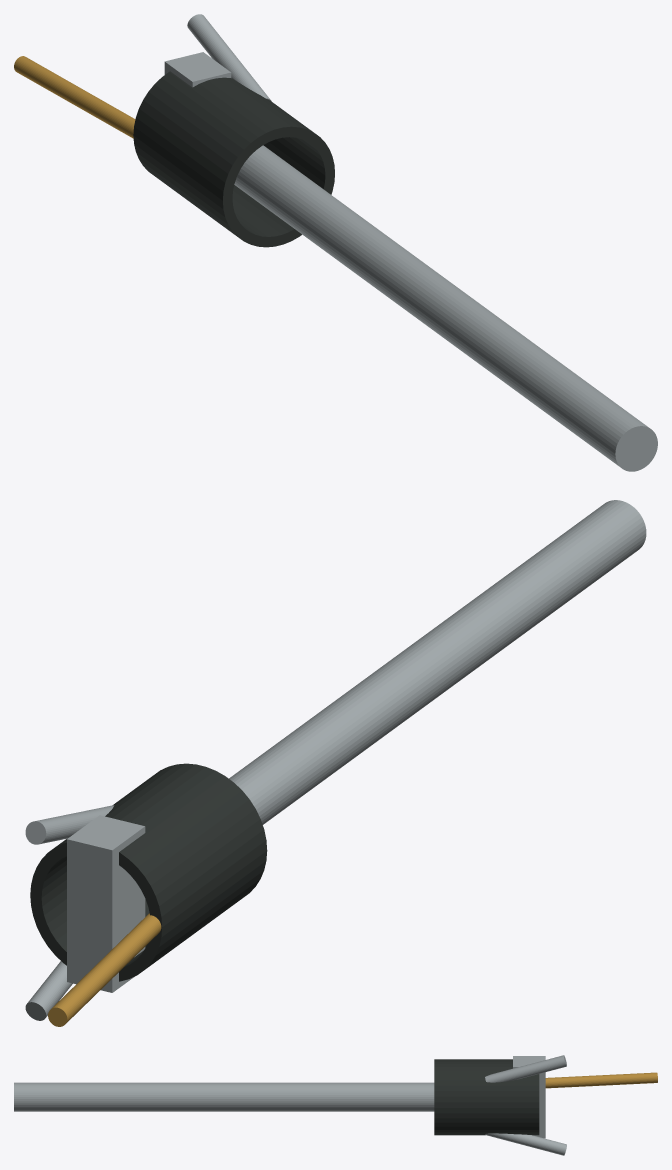
File: duckbill_feed_link.obj
3 renders of one model, top to bottom at view 1: azimuth 30°, elevation 25°; view 2: azimuth 150°, elevation 25°; view 3: azimuth 270°, elevation 25°, orthographic. The views are drawn at different scales.
Visible parts, largest first — view 1: feed_rod_4, housing_0, water_nozzle_3, jaw_actuators_2, hinge_brackets_1; view 2: feed_rod_4, housing_0, hinge_brackets_1, water_nozzle_3, jaw_actuators_2; view 3: feed_rod_4, housing_0, jaw_actuators_2, water_nozzle_3, hinge_brackets_1.
Boxes of the visible parts, x1,y1,x2,y2 form: feed_rod_4: (234,145,657,471); housing_0: (133,71,334,247); water_nozzle_3: (14,56,135,138); jaw_actuators_2: (187,14,271,101); hinge_brackets_1: (164,52,231,87); feed_rod_4: (229,500,646,824); housing_0: (30,763,267,981); hinge_brackets_1: (67,815,145,992); water_nozzle_3: (48,913,161,1026); jaw_actuators_2: (25,805,114,1020); feed_rod_4: (14,1082,434,1111); housing_0: (434,1059,539,1135); jaw_actuators_2: (485,1055,566,1155); water_nozzle_3: (545,1072,657,1088); hinge_brackets_1: (513,1056,545,1138).
Bounding box in the file's own units: 0.1359 × 0.1673 × 0.9809.
